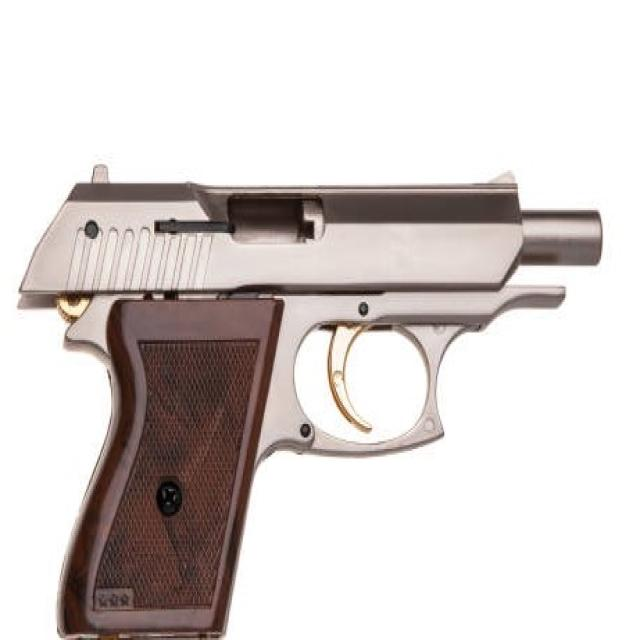pistol: (18, 152, 607, 637)
